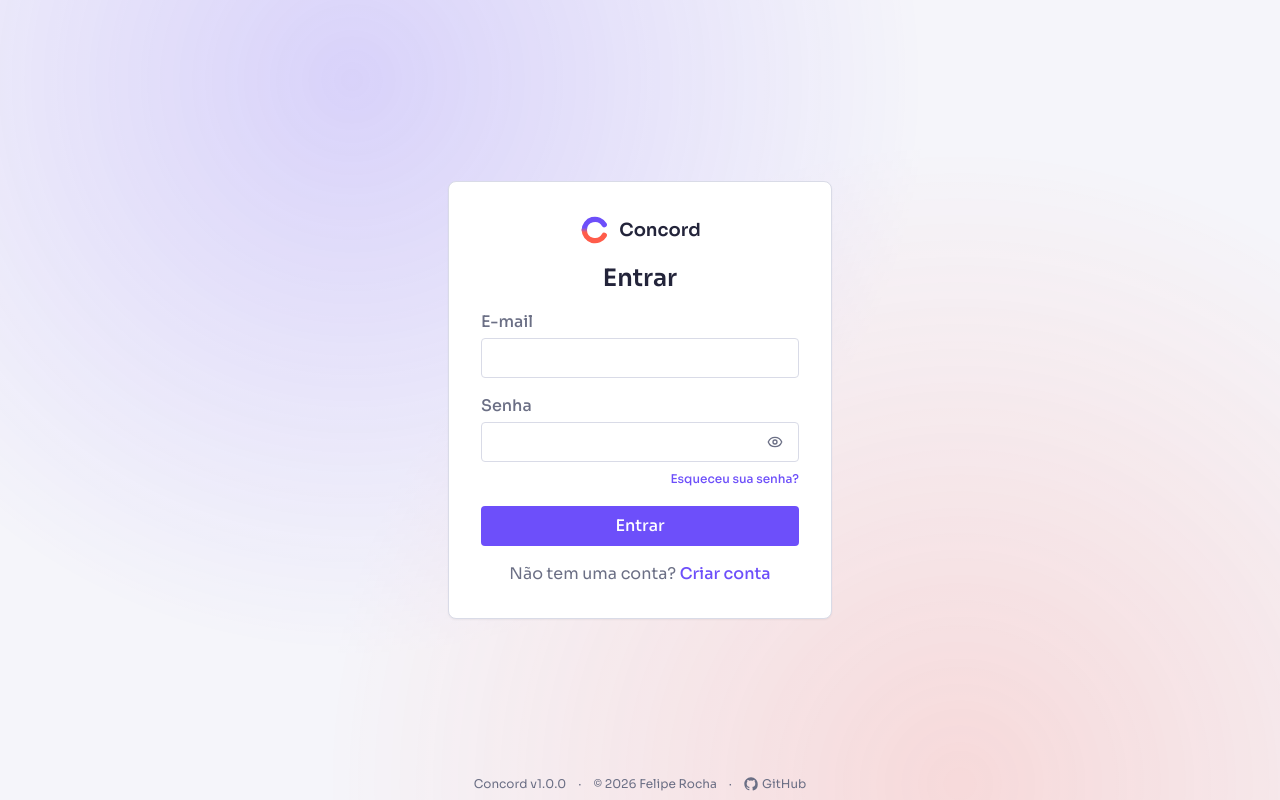
LoginPage › disables the submit button while the mutation is pending
The image size is (1280, 800).
Type "a@b.com" into the field labelled "E-mail". click: [640, 358]
box: [481, 338, 799, 378]
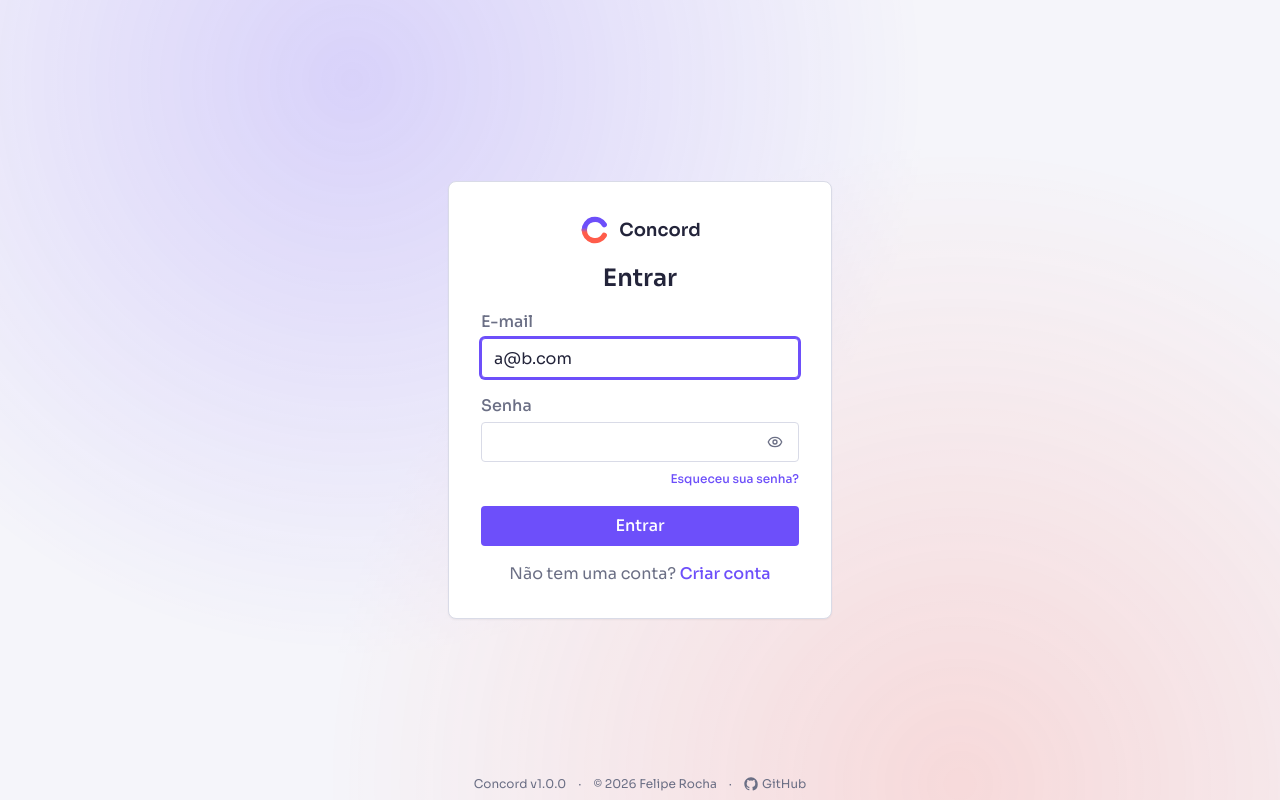
Type "password123" into the password field labelled "Senha". click: [640, 442]
box: [481, 422, 799, 462]
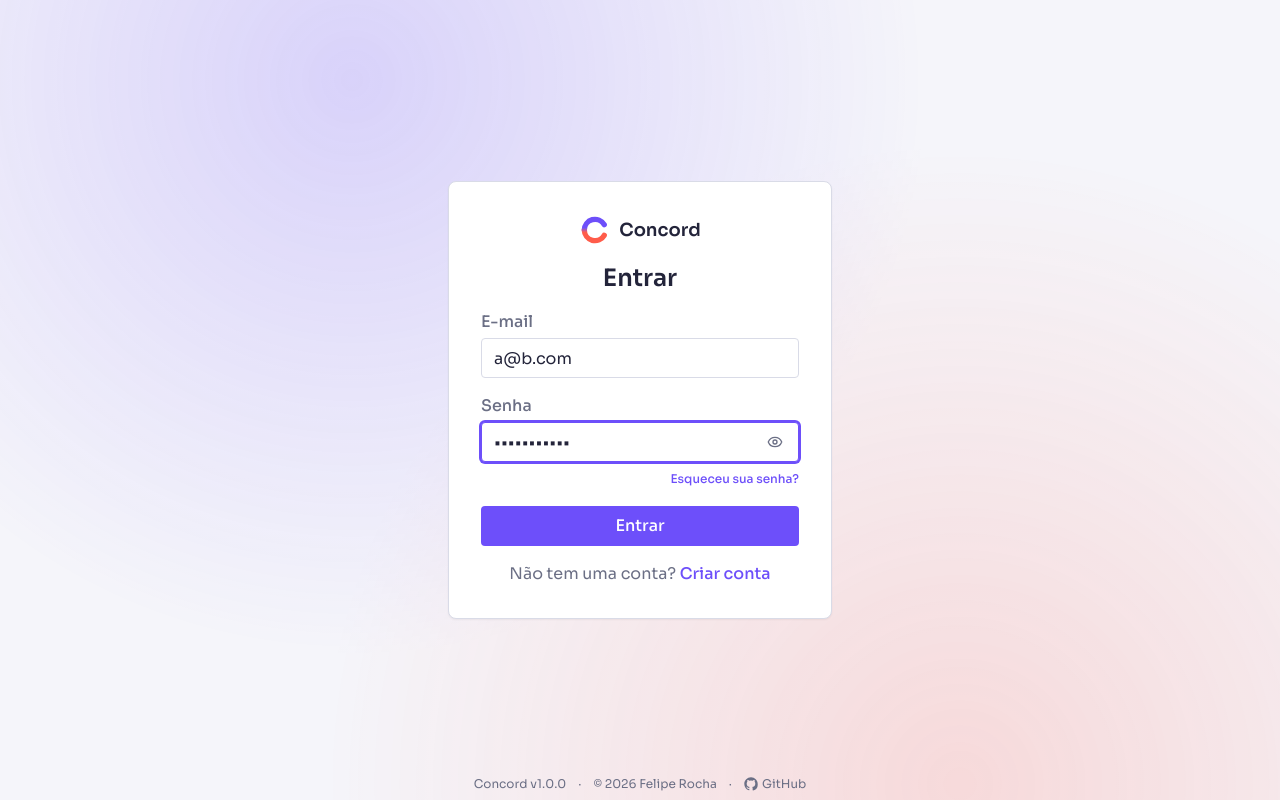
Click the button "Entrar". click: [640, 526]
box: [481, 506, 799, 546]
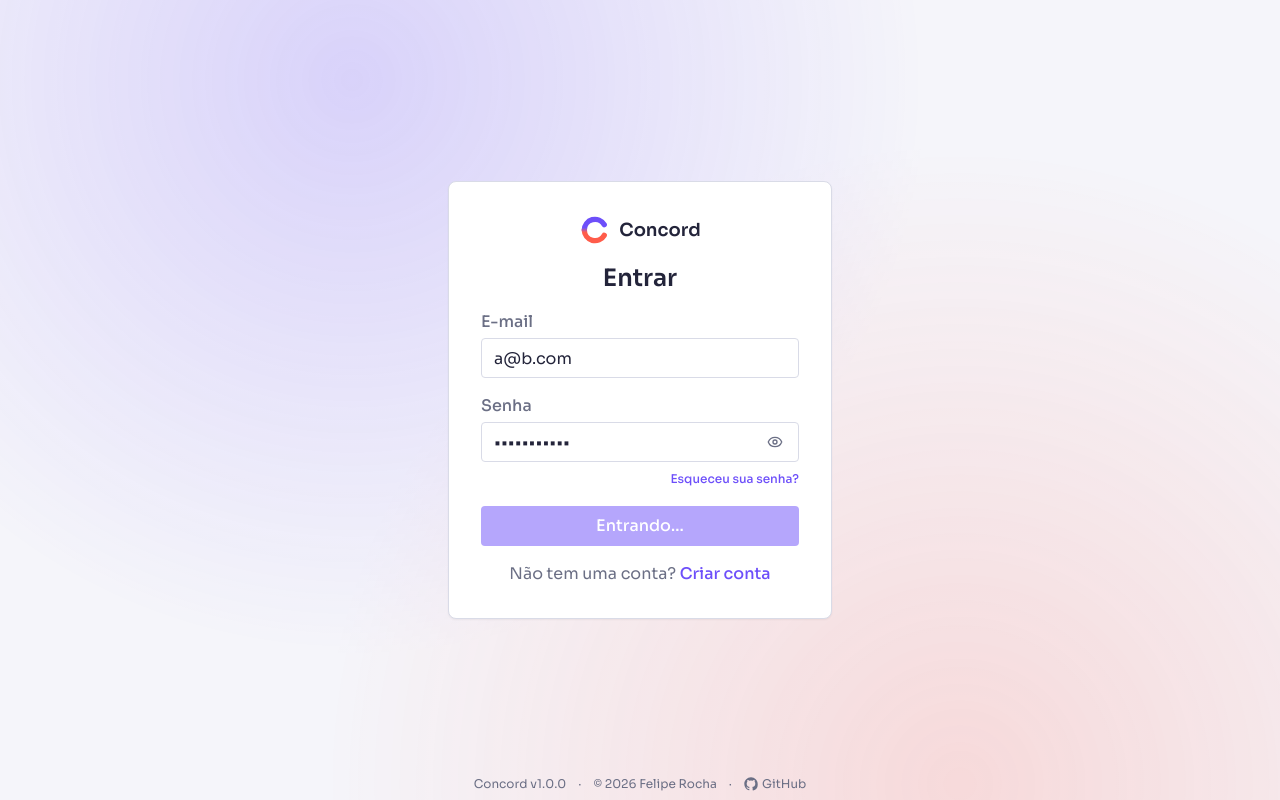
Now the button "Entrando…" is disabled, box [481, 506, 799, 546]
